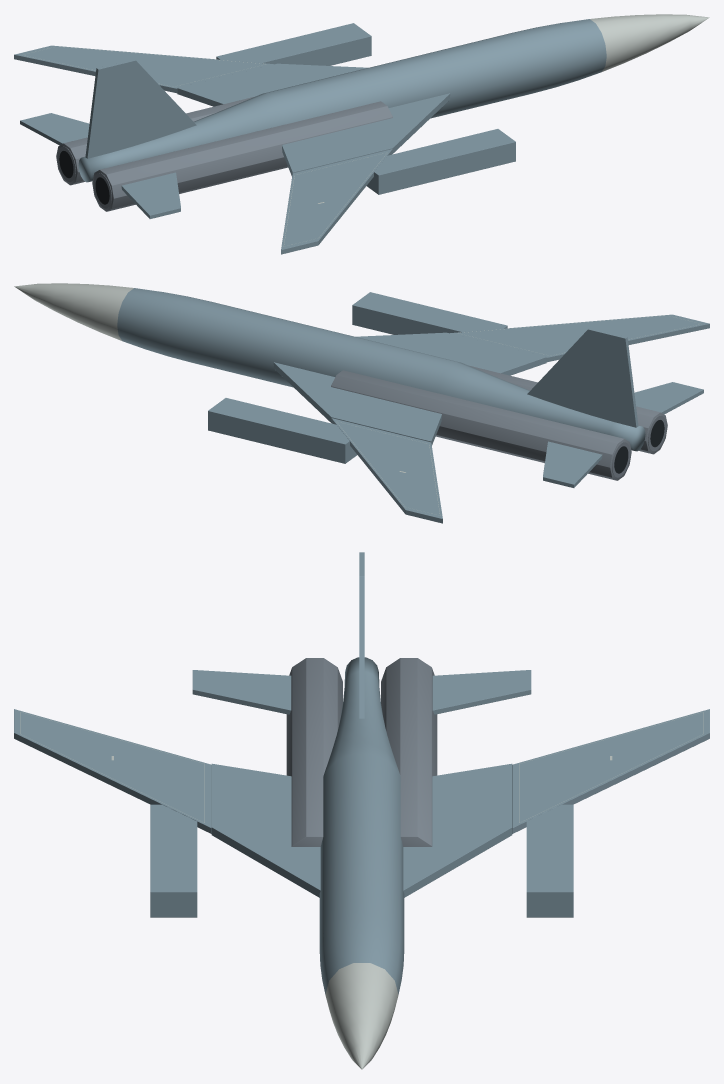
The picture shows the model from 3 angles, top to bottom: view 1: azimuth 30°, elevation 25°; view 2: azimuth 150°, elevation 25°; view 3: azimuth 270°, elevation 25°; orthographic projection. The views are drawn at different scales.
Visible parts, largest first — view 1: cw90_tu22m3; view 2: cw90_tu22m3; view 3: cw90_tu22m3.
Part boxes in pixels (box(x1,y1,x2,y2)): cw90_tu22m3: box(14, 14, 709, 254); cw90_tu22m3: box(14, 283, 709, 523); cw90_tu22m3: box(14, 552, 709, 1069).
Size of the model in its own units: 10 by 1.94 by 7.39.
